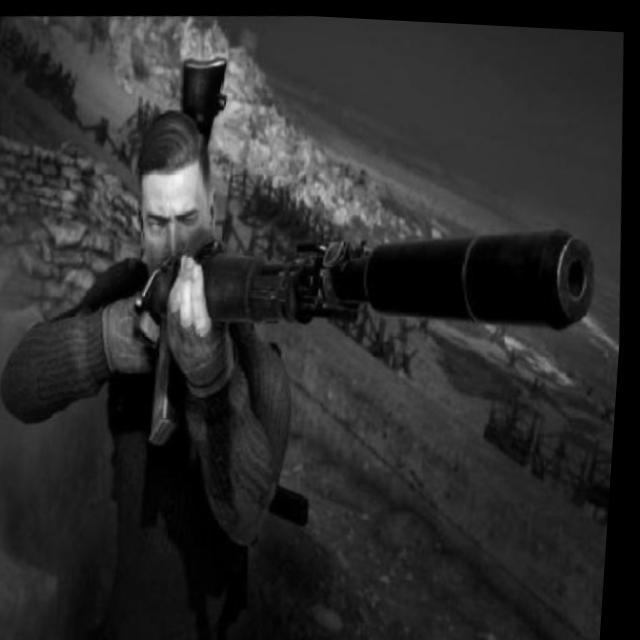weapon: (137, 202, 613, 460)
